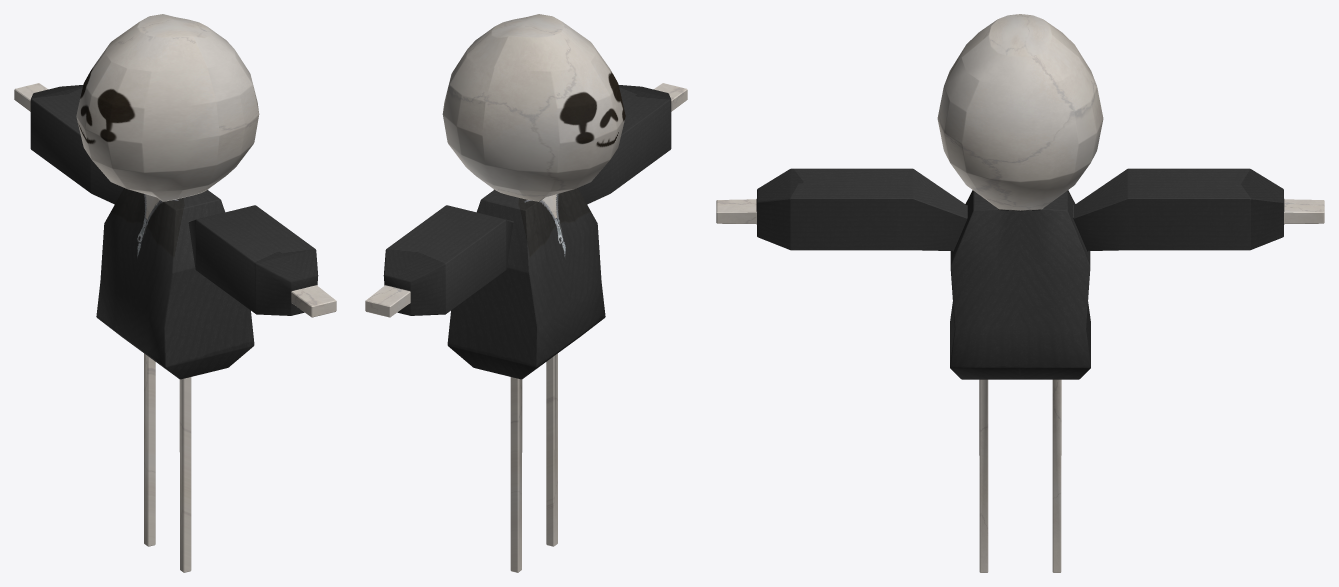
Rendered from Character.fbx.
3 renders of one model, left to right at view 1: azimuth 30°, elevation 25°; view 2: azimuth 150°, elevation 25°; view 3: azimuth 270°, elevation 25°, orthographic. The views are drawn at different scales.
Parts seen in each view (by area): view 1: Character; view 2: Character; view 3: Character.
Boxes of the visible parts, x1,y1,x2,y2 form: Character: (14, 14, 336, 572); Character: (365, 14, 687, 572); Character: (716, 14, 1324, 572).
Bounding box in the file's own units: 61.97 × 196 × 198.
Materials: 1 (1 with a texture image).
